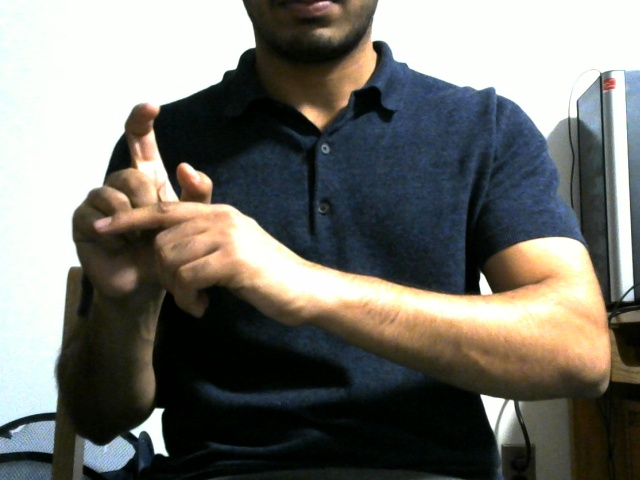call: (33, 88, 343, 348)
